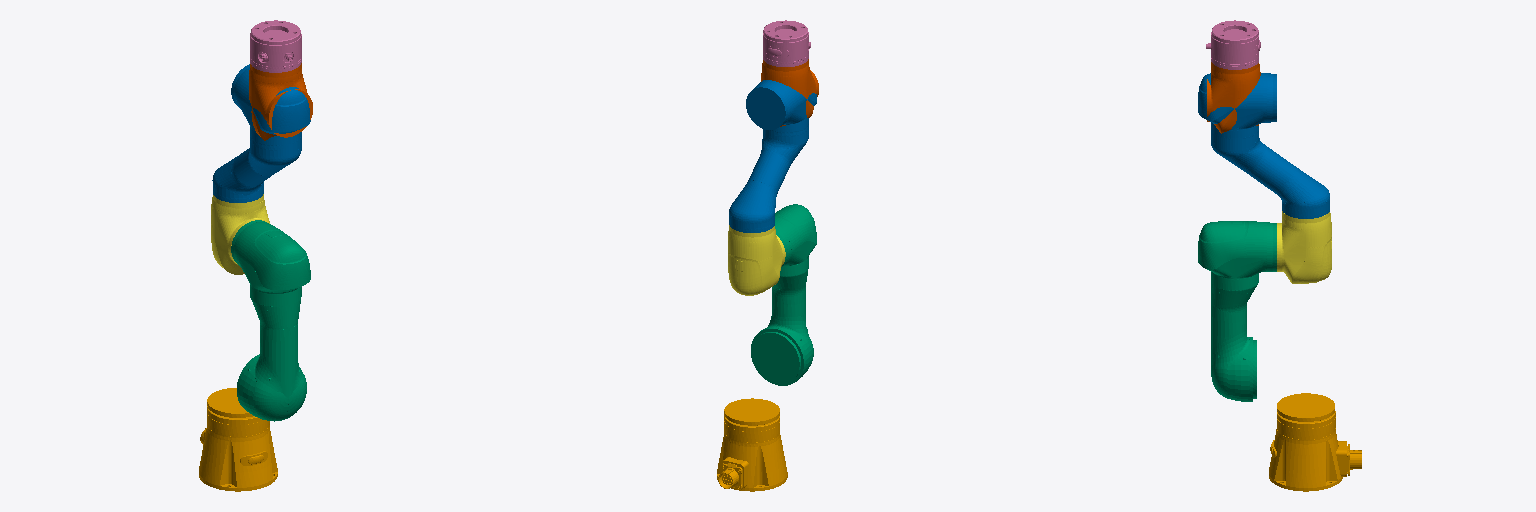
URDF robot description (rb1_500es_u):
<?xml version="1.0" ?>
<!-- =================================================================================== -->
<!-- |    This document was autogenerated by xacro from rb1_500es_u.urdf.xacro         | -->
<!-- |    EDITING THIS FILE BY HAND IS NOT RECOMMENDED                                 | -->
<!-- =================================================================================== -->
<robot name="rb1_500es_u">
  <link name="link0">
    <visual>
      <geometry>
        <mesh filename="package://rbpodo_description/meshes/rb1_500es_u/visual/link0.dae"/>
      </geometry>
    </visual>
    <collision>
      <geometry>
        <mesh filename="package://rbpodo_description/meshes/rb1_500es_u/collision/link0.stl"/>
      </geometry>
    </collision>
  </link>
  <link name="link1">
    <visual>
      <geometry>
        <mesh filename="package://rbpodo_description/meshes/rb1_500es_u/visual/link1.dae"/>
      </geometry>
    </visual>
    <collision>
      <geometry>
        <mesh filename="package://rbpodo_description/meshes/rb1_500es_u/collision/link1.stl"/>
      </geometry>
    </collision>
    <inertial>
      <origin rpy="0 0 0" xyz="-0.00002208 -0.02981214 -0.00332683"/>
      <mass value="1.23358625"/>
      <inertia ixx="0.00138438" ixy="3e-08" ixz="8.1e-07" iyy="0.00107381" iyz="0.00011138" izz="0.00128285"/>
    </inertial>
  </link>
  <link name="link2">
    <visual>
      <geometry>
        <mesh filename="package://rbpodo_description/meshes/rb1_500es_u/visual/link2.dae"/>
      </geometry>
    </visual>
    <collision>
      <geometry>
        <mesh filename="package://rbpodo_description/meshes/rb1_500es_u/collision/link2.stl"/>
      </geometry>
    </collision>
    <inertial>
      <origin rpy="0 0 0" xyz="0.00006274 -0.08257860 0.13384551"/>
      <mass value="1.08410838"/>
      <inertia ixx="0.00577018" ixy="2.73e-06" ixz="-1.7e-07" iyy="0.00539708" iyz="-0.00055405" izz="0.00089785"/>
    </inertial>
  </link>
  <link name="link3">
    <visual>
      <geometry>
        <mesh filename="package://rbpodo_description/meshes/rb1_500es_u/visual/link3.dae"/>
      </geometry>
    </visual>
    <collision>
      <geometry>
        <mesh filename="package://rbpodo_description/meshes/rb1_500es_u/collision/link3.stl"/>
      </geometry>
    </collision>
    <inertial>
      <origin rpy="0 0 0" xyz="-0.00008419 -0.00101844 0.02015049"/>
      <mass value="0.66596275"/>
      <inertia ixx="0.00058233" ixy="4.3e-07" ixz="-2.66e-06" iyy="0.00056656" iyz="-1.299e-05" izz="0.0003224"/>
    </inertial>
  </link>
  <link name="link4">
    <visual>
      <geometry>
        <mesh filename="package://rbpodo_description/meshes/rb1_500es_u/visual/link4.dae"/>
      </geometry>
    </visual>
    <collision>
      <geometry>
        <mesh filename="package://rbpodo_description/meshes/rb1_500es_u/collision/link4.stl"/>
      </geometry>
    </collision>
    <inertial>
      <origin rpy="0 0 0" xyz="0.00008446 -0.06824336 0.18891470"/>
      <mass value="0.98411887"/>
      <inertia ixx="0.0037364" ixy="2.53e-06" ixz="-2.5e-07" iyy="0.00284239" iyz="0.00093" izz="0.00133647"/>
    </inertial>
  </link>
  <link name="link5">
    <visual>
      <geometry>
        <mesh filename="package://rbpodo_description/meshes/rb1_500es_u/visual/link5.dae"/>
      </geometry>
    </visual>
    <collision>
      <geometry>
        <mesh filename="package://rbpodo_description/meshes/rb1_500es_u/collision/link5.stl"/>
      </geometry>
    </collision>
    <inertial>
      <origin rpy="0 0 0" xyz="-0.00008419 -0.00101844 0.02015049"/>
      <mass value="0.66596275"/>
      <inertia ixx="0.00058233" ixy="4.3e-07" ixz="-2.66e-06" iyy="0.00056656" iyz="-1.299e-05" izz="0.0003224"/>
    </inertial>
  </link>
  <link name="link6">
    <visual>
      <geometry>
        <mesh filename="package://rbpodo_description/meshes/rb1_500es_u/visual/link6.dae"/>
      </geometry>
    </visual>
    <collision>
      <geometry>
        <mesh filename="package://rbpodo_description/meshes/rb1_500es_u/collision/link6.stl"/>
      </geometry>
    </collision>
    <inertial>
      <origin rpy="0 0 0" xyz="-0.001 -0.001 0.068"/>
      <mass value="0.211"/>
      <inertia ixx="0.00050752" ixy="0.0001055" ixz="3.1e-07" iyy="0.00030773" iyz="-3e-07" izz="0.00072315"/>
    </inertial>
  </link>
  <link name="tcp"/>
  <joint name="base" type="revolute">
    <origin rpy="0 0 0" xyz="0 0 0.1568"/>
    <parent link="link0"/>
    <child link="link1"/>
    <axis xyz="0 0 1"/>
    <limit effort="10" lower="-3.14" upper="3.14" velocity="3.14"/>
  </joint>
  <joint name="shoulder" type="revolute">
    <origin rpy="0 0 0" xyz="0 0 0"/>
    <parent link="link1"/>
    <child link="link2"/>
    <axis xyz="0 1 0"/>
    <limit effort="10" lower="-3.14" upper="3.14" velocity="3.14"/>
  </joint>
  <joint name="elbow" type="revolute">
    <origin rpy="0 0 0" xyz="0 0 0.1800"/>
    <parent link="link2"/>
    <child link="link3"/>
    <axis xyz="0 1 0"/>
    <limit effort="10" lower="-3.14" upper="3.14" velocity="3.14"/>
  </joint>
  <joint name="wrist1" type="revolute">
    <origin rpy="0 0 0" xyz="0 0 0"/>
    <parent link="link3"/>
    <child link="link4"/>
    <axis xyz="0 0 1"/>
    <limit effort="10" lower="-3.14" upper="3.14" velocity="3.14"/>
  </joint>
  <joint name="wrist2" type="revolute">
    <origin rpy="0 0 0" xyz="0 -0.0948 0.2198"/>
    <parent link="link4"/>
    <child link="link5"/>
    <axis xyz="0 1 0"/>
    <limit effort="10" lower="-3.14" upper="3.14" velocity="3.14"/>
  </joint>
  <joint name="wrist3" type="revolute">
    <origin rpy="0 0 0" xyz="0 0 0"/>
    <parent link="link5"/>
    <child link="link6"/>
    <axis xyz="0 0 1"/>
    <limit effort="10" lower="-3.14" upper="3.14" velocity="3.14"/>
  </joint>
  <joint name="tcp_joint" type="fixed">
    <origin rpy="0 0 0" xyz="0 0 0.1"/>
    <parent link="link6"/>
    <child link="tcp"/>
  </joint>
  <ros2_control name="RBPodoHardwareInterface" type="system">
    <hardware>
      <plugin>rbpodo_hardware/RBPodoHardwareInterface</plugin>
      <param name="cb_simulation">True</param>
      <param name="robot_ip">10.0.2.7</param>
    </hardware>
    <joint name="base">
      <param name="initial_position">0.0</param>
      <param name="torque_constant">10.100000000000001</param>
      <command_interface name="effort"/>
      <command_interface name="velocity"/>
      <command_interface name="position"/>
      <state_interface name="position"/>
      <state_interface name="effort"/>
    </joint>
    <joint name="shoulder">
      <param name="initial_position">0.0</param>
      <param name="torque_constant">10.100000000000001</param>
      <command_interface name="effort"/>
      <command_interface name="velocity"/>
      <command_interface name="position"/>
      <state_interface name="position"/>
      <state_interface name="effort"/>
    </joint>
    <joint name="elbow">
      <param name="initial_position">0.0</param>
      <param name="torque_constant">10.100000000000001</param>
      <command_interface name="effort"/>
      <command_interface name="velocity"/>
      <command_interface name="position"/>
      <state_interface name="position"/>
      <state_interface name="effort"/>
    </joint>
    <joint name="wrist1">
      <param name="initial_position">0.0</param>
      <param name="torque_constant">10.100000000000001</param>
      <command_interface name="effort"/>
      <command_interface name="velocity"/>
      <command_interface name="position"/>
      <state_interface name="position"/>
      <state_interface name="effort"/>
    </joint>
    <joint name="wrist2">
      <param name="initial_position">0.0</param>
      <param name="torque_constant">5.5</param>
      <command_interface name="effort"/>
      <command_interface name="velocity"/>
      <command_interface name="position"/>
      <state_interface name="position"/>
      <state_interface name="effort"/>
    </joint>
    <joint name="wrist3">
      <param name="initial_position">0.0</param>
      <param name="torque_constant">5.5</param>
      <command_interface name="effort"/>
      <command_interface name="velocity"/>
      <command_interface name="position"/>
      <state_interface name="position"/>
      <state_interface name="effort"/>
    </joint>
  </ros2_control>
</robot>

--- What the picture shows (computed from the rendered views, not written in the file) ---
Views: 3 orthographic renders of the robot side by side, from view 1: azimuth 30°, elevation 25°; view 2: azimuth 150°, elevation 25°; view 3: azimuth 270°, elevation 25°.
Robot: rb1_500es_u — 8 links, 7 joints (6 revolute, 1 fixed); root link link0; default pose: all joints at 0.
Visible links, largest first — view 1: link2, link0, link4, link6, link3, link5; view 2: link2, link4, link0, link3, link6, link5; view 3: link2, link4, link0, link3, link6, link5.
Link boxes in pixels (<box>): link2: <box>231,220,310,421</box>; link0: <box>199,388,277,491</box>; link4: <box>212,64,310,202</box>; link6: <box>250,20,301,72</box>; link3: <box>211,194,269,274</box>; link5: <box>249,63,312,140</box>; link2: <box>751,204,816,385</box>; link4: <box>729,80,816,232</box>; link0: <box>717,398,787,491</box>; link3: <box>728,225,785,295</box>; link6: <box>763,20,810,66</box>; link5: <box>761,59,818,126</box>; link2: <box>1198,221,1276,401</box>; link4: <box>1198,73,1329,218</box>; link0: <box>1269,393,1361,491</box>; link3: <box>1277,211,1331,283</box>; link6: <box>1206,20,1260,69</box>; link5: <box>1207,62,1260,133</box>.
Bounding box of the posed robot: 0.0999 × 0.2191 × 0.6568 m (x, y, z).
Meshes: 7 distinct files referenced, 6 mesh visuals loaded (6 Collada DAE); not drawn: 1 (reference not matched to a file when rendering).
